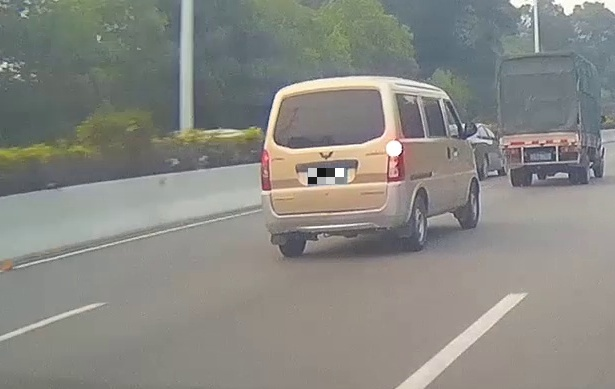L_light: (261, 149, 272, 191), (506, 148, 519, 155)
R_light: (386, 139, 406, 182), (563, 146, 576, 152)
T_light: (314, 93, 334, 97), (538, 140, 546, 143)
day-no: (495, 51, 583, 186)
day-right: (260, 75, 409, 256)
plate_1: (308, 168, 346, 184)
